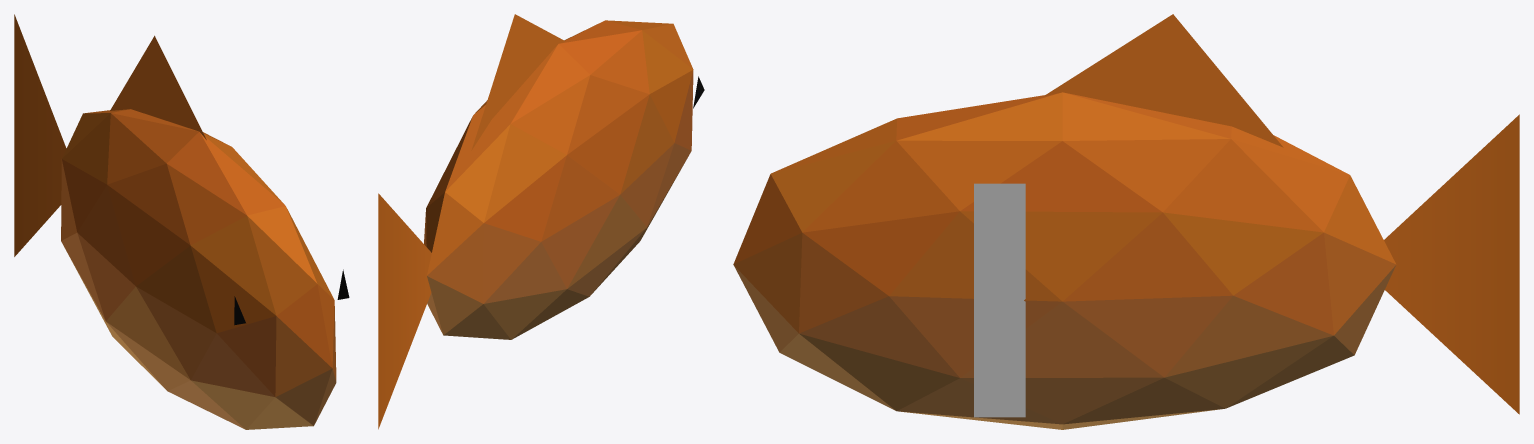
File: fish_clown.glb
The picture shows the model from 3 angles, left to right: view 1: azimuth 30°, elevation 25°; view 2: azimuth 150°, elevation 25°; view 3: azimuth 270°, elevation 25°; orthographic projection. The views are drawn at different scales.
Visible parts, largest first — view 1: fish_clown_solid, fish_clown_wing; view 2: fish_clown_solid, fish_clown_wing; view 3: fish_clown_solid, fish_clown_wing.
Part boxes in pixels (box(x1,y1,x2,y2)): fish_clown_solid: box(61, 109, 349, 429); fish_clown_wing: box(14, 14, 206, 256); fish_clown_solid: box(424, 20, 704, 339); fish_clown_wing: box(378, 14, 565, 429); fish_clown_solid: box(733, 92, 1396, 429); fish_clown_wing: box(1043, 14, 1519, 414).
Size of the model in its own units: 0.0435 by 0.1121 by 0.192.
